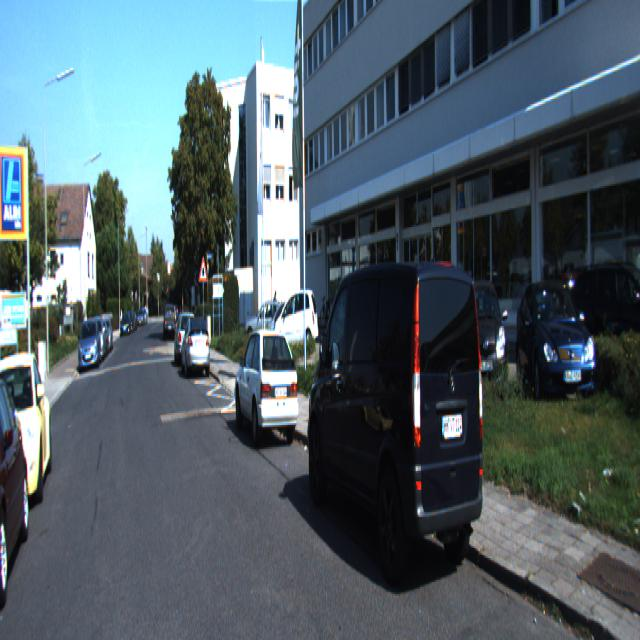Car: (302, 239, 491, 614), (514, 270, 599, 420), (0, 349, 53, 520), (451, 279, 516, 417), (232, 328, 300, 456), (270, 288, 320, 358), (180, 316, 210, 379), (77, 318, 99, 371), (160, 303, 173, 340)
